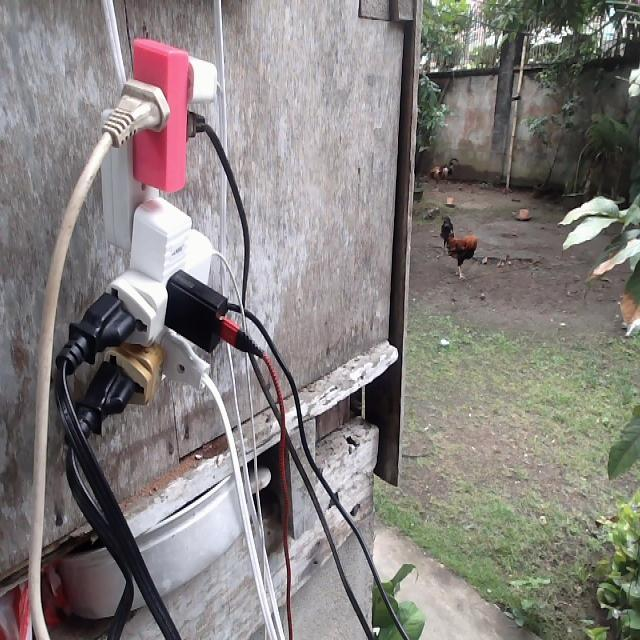-: (78, 33, 230, 459)
